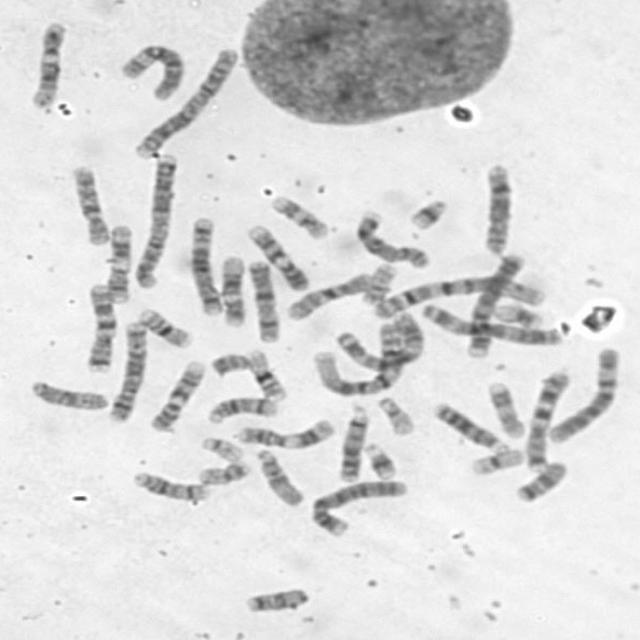A1: (310, 311, 418, 398), (366, 270, 546, 320)
A2: (128, 42, 243, 161), (130, 149, 182, 291)
A3: (414, 296, 564, 346), (332, 306, 427, 371)
B4: (458, 248, 526, 360), (303, 475, 409, 540)
B5: (104, 317, 150, 423), (183, 211, 224, 316)
C10: (282, 267, 374, 322), (65, 160, 112, 247)
C11: (231, 414, 337, 450), (101, 220, 135, 305)
C12: (25, 16, 69, 110), (214, 252, 247, 328)
C6: (542, 340, 624, 445), (114, 39, 189, 102)
C7: (518, 365, 573, 472), (80, 278, 119, 374)
C8: (352, 205, 435, 270), (476, 157, 516, 257)
C9: (242, 219, 313, 293), (145, 355, 208, 432)
D13: (428, 396, 512, 454), (333, 402, 372, 482)
D14: (126, 466, 215, 503), (202, 391, 282, 425)
D15: (252, 445, 308, 508), (25, 375, 110, 412)
E16: (134, 302, 196, 349), (242, 344, 289, 403)
E17: (266, 190, 332, 240), (481, 376, 527, 440)
E18: (510, 456, 571, 504), (240, 582, 312, 614)
F19: (464, 442, 527, 477), (490, 299, 546, 329)
F20: (356, 260, 399, 306), (193, 455, 253, 486)
G21: (403, 192, 451, 231), (358, 438, 399, 480)
G22: (372, 391, 418, 437), (195, 431, 246, 463)
X: (243, 255, 284, 344)
Y: (206, 348, 252, 377)
